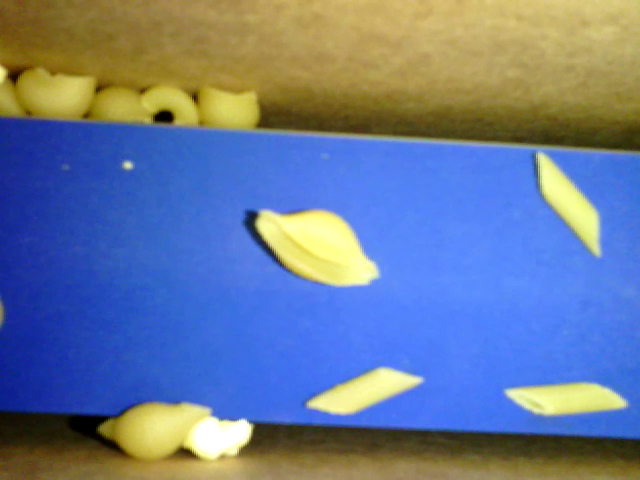elbow: (146, 84, 200, 130)
penne: (536, 146, 602, 258), (304, 364, 426, 416), (502, 377, 628, 416)
shell: (254, 207, 381, 288), (98, 399, 212, 464), (11, 68, 98, 125), (92, 83, 155, 126), (199, 87, 259, 127)
